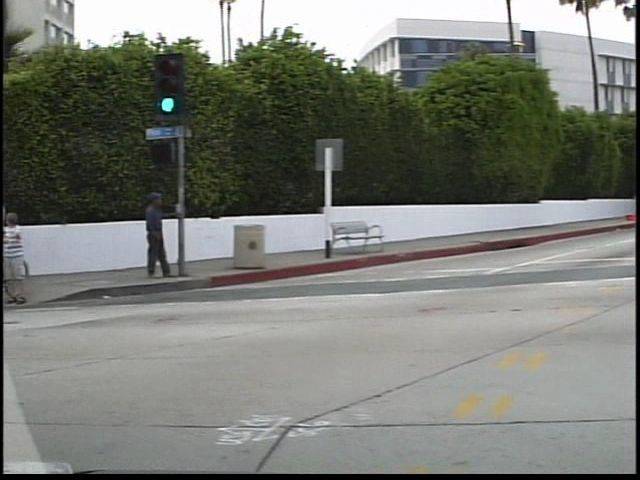person: (138, 187, 178, 288), (1, 189, 40, 288)
